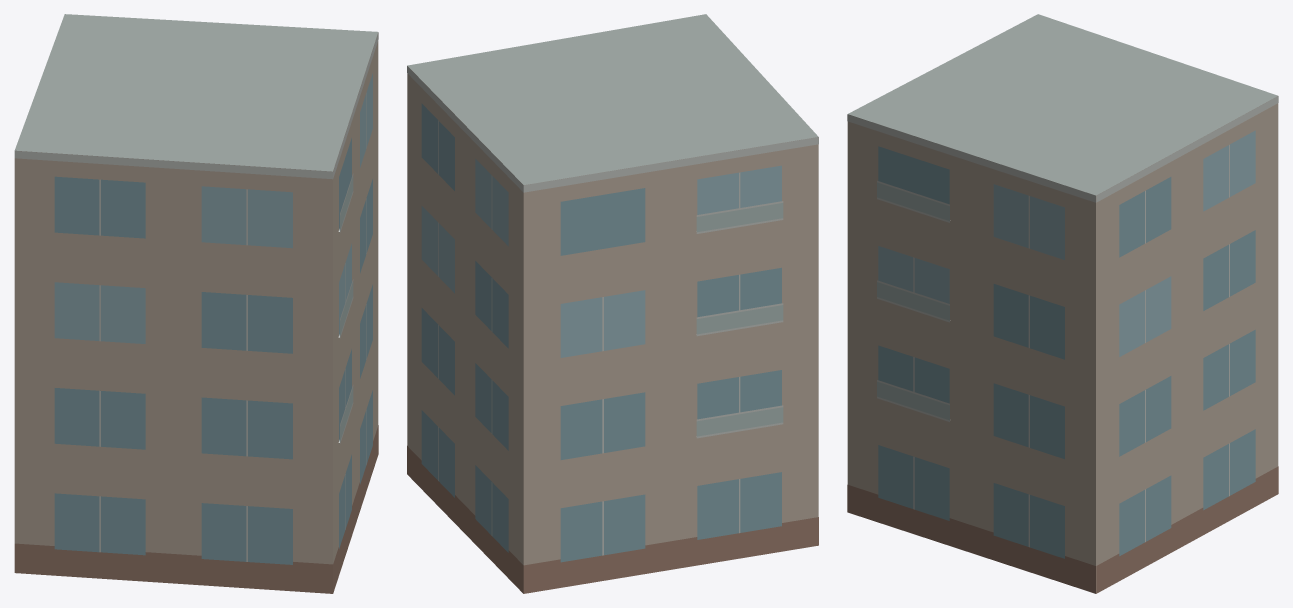
File: survey-upis-32912852.glb
The picture shows the model from 3 angles, left to right: view 1: azimuth 30°, elevation 25°; view 2: azimuth 150°, elevation 25°; view 3: azimuth 270°, elevation 25°; orthographic projection. The views are drawn at different scales.
Parts seen in each view (by area): view 1: survey-upis-32912852.tmp; view 2: survey-upis-32912852.tmp; view 3: survey-upis-32912852.tmp.
Part boxes in pixels (box(x1,y1,x2,y2)): survey-upis-32912852.tmp: box(14, 14, 378, 593); survey-upis-32912852.tmp: box(407, 14, 818, 593); survey-upis-32912852.tmp: box(847, 14, 1278, 593).
Bounding box in the file's own units: 13.11 × 13.4 × 13.15.
